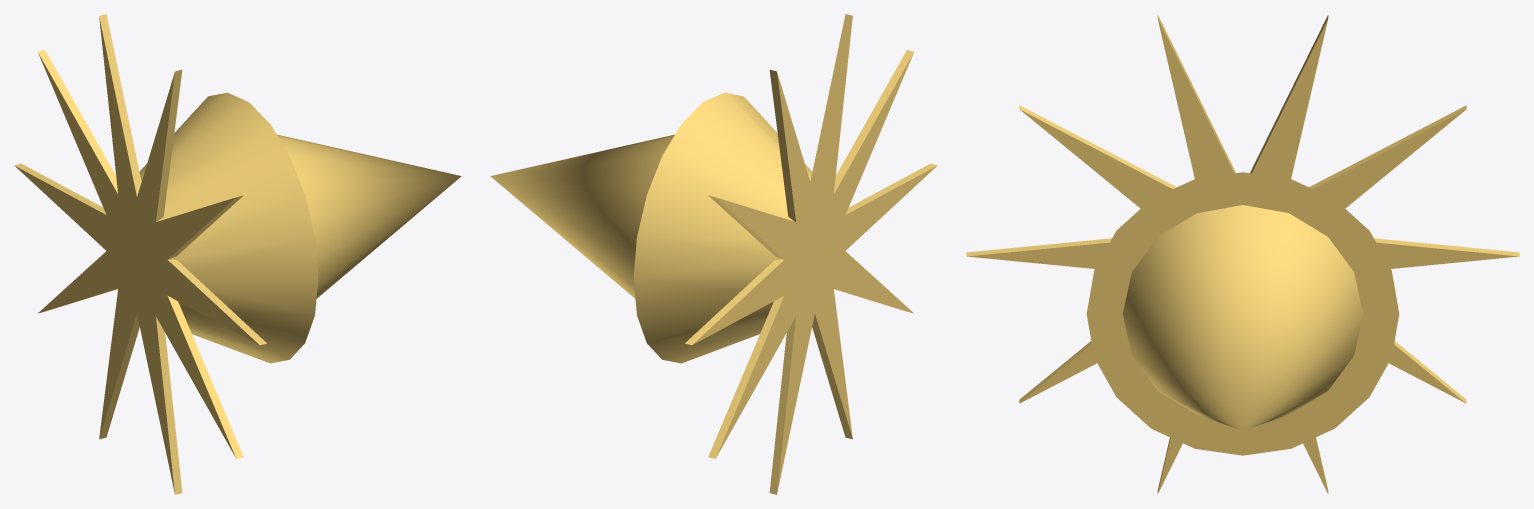
The model's file is clarao.obj.
3 renders of one model, left to right at view 1: azimuth 30°, elevation 25°; view 2: azimuth 150°, elevation 25°; view 3: azimuth 270°, elevation 25°, orthographic. The views are drawn at different scales.
Size of the model in its own units: 0.2808 by 0.35 by 0.368.
